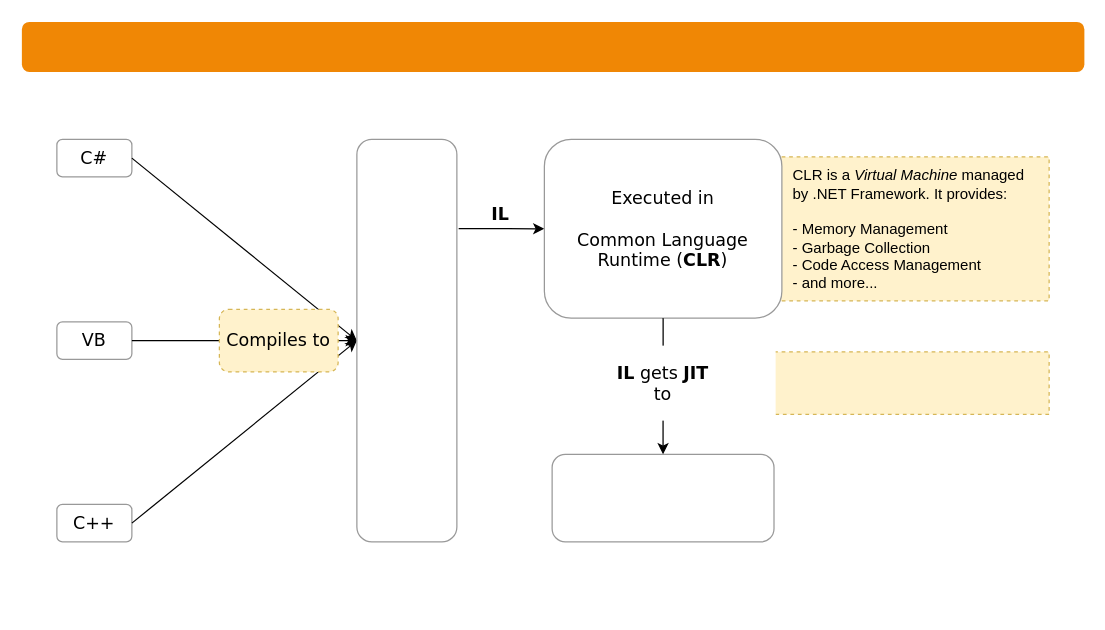
This 1105x630 diagram has some shape labels left out. The centre of each missing label's shape, as x and y in pixels:
.NET Execution Process (Additional Details): [552,46]
CLR Just In Time (JIT) compiles IL binaries to native Machine code.: [911,382]
IL Binaries: [406,340]
Native Machine Code: [662,497]
